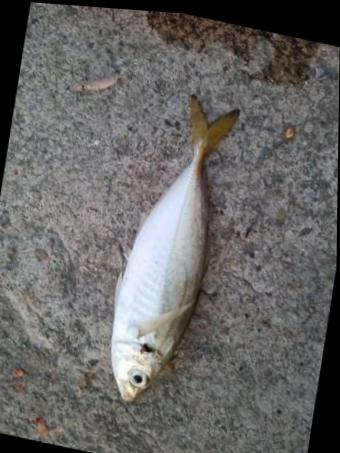fish: (110, 94, 240, 401)
